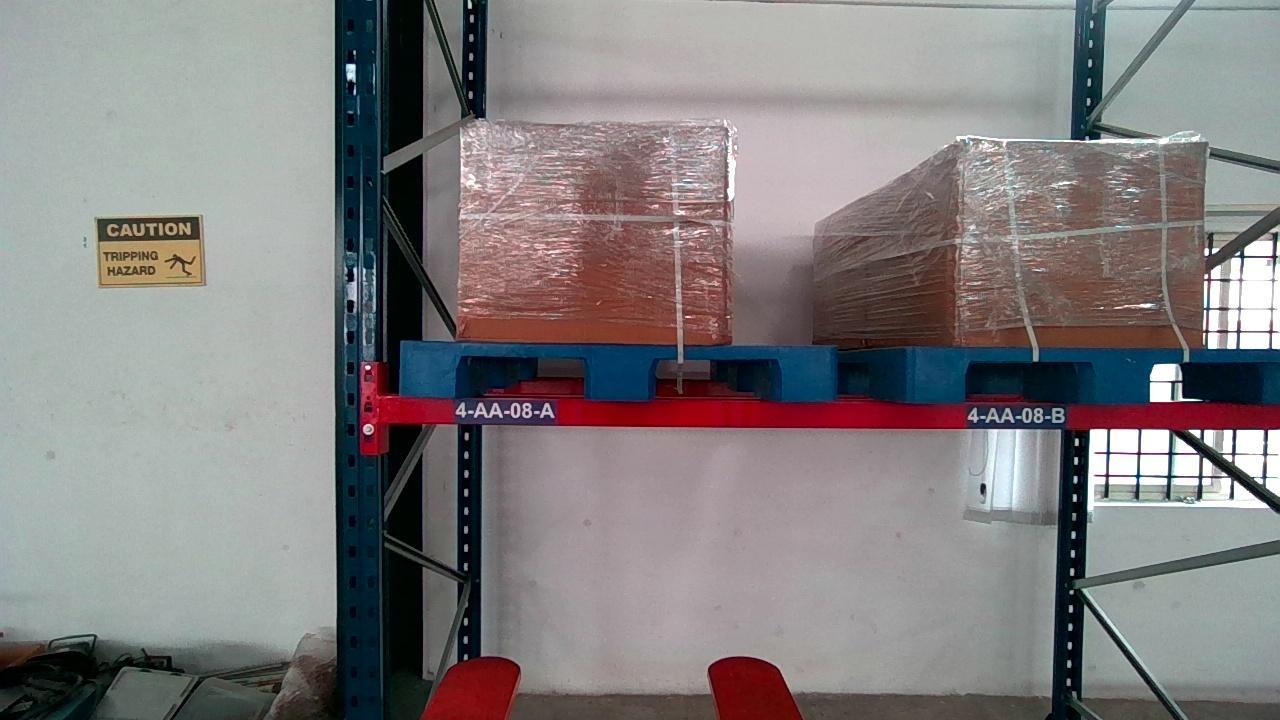h_rack: (383, 399, 1279, 428)
small_pallet: (397, 339, 837, 399), (907, 348, 1280, 401)
